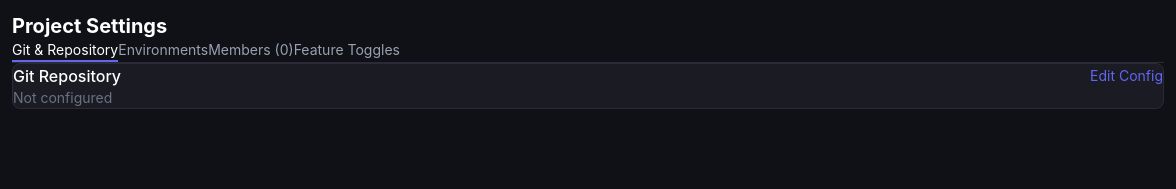
SettingsPage › switches to Environments tab and shows environment data
Click the button "Environments" at (163, 51), box [118, 40, 208, 62]
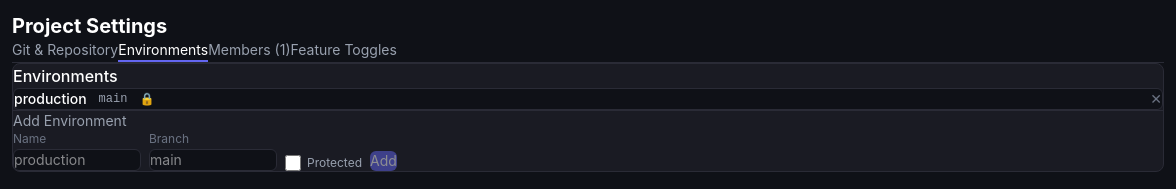
Check: the text "production" is shown, box [14, 89, 87, 109]
Check: the text "main" is shown, box [99, 91, 127, 107]
